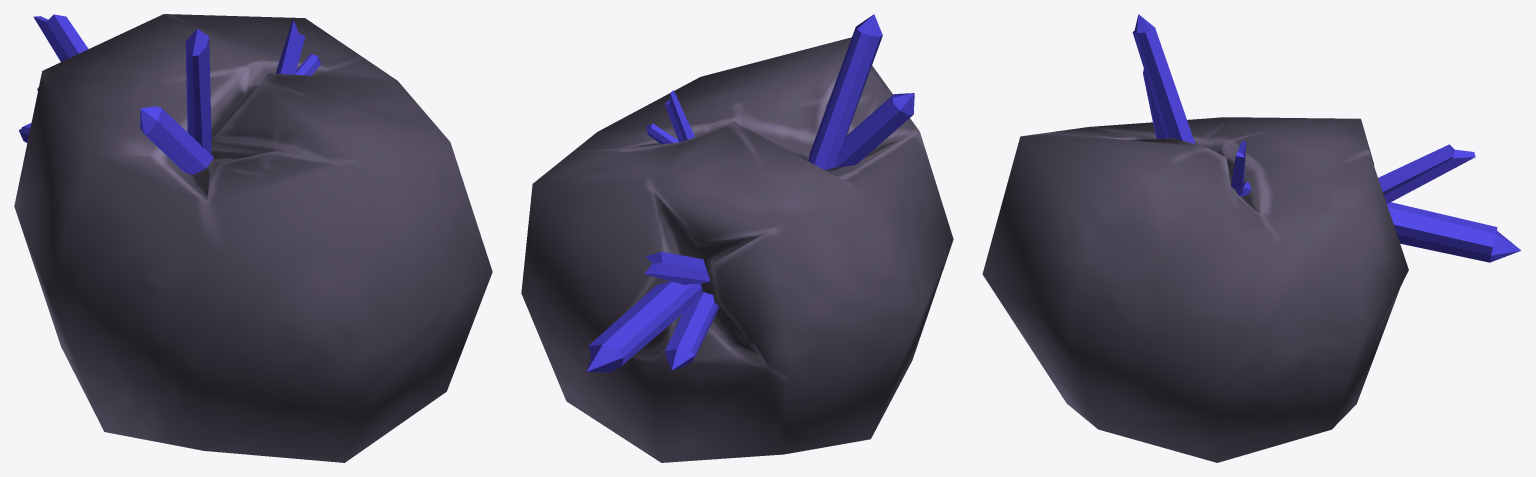
File: gahnite.glb
The picture shows the model from 3 angles, left to right: view 1: azimuth 30°, elevation 25°; view 2: azimuth 150°, elevation 25°; view 3: azimuth 270°, elevation 25°; orthographic projection. The views are drawn at different scales.
Parts seen in each view (by area): view 1: stone03LOD0, stone-03CrystalsLOD0; view 2: stone03LOD0, stone-03CrystalsLOD0; view 3: stone03LOD0, stone-03CrystalsLOD0.
Part boxes in pixels (box(x1,y1,x2,y2)): stone03LOD0: box(14, 14, 492, 462); stone-03CrystalsLOD0: box(19, 14, 320, 174); stone03LOD0: box(521, 37, 953, 462); stone-03CrystalsLOD0: box(586, 14, 914, 372); stone03LOD0: box(982, 117, 1408, 462); stone-03CrystalsLOD0: box(1132, 14, 1520, 262).
Size of what is drawn, in the model's own units: 1.68 by 1.68 by 2.36.
2 materials, 1 textured.
